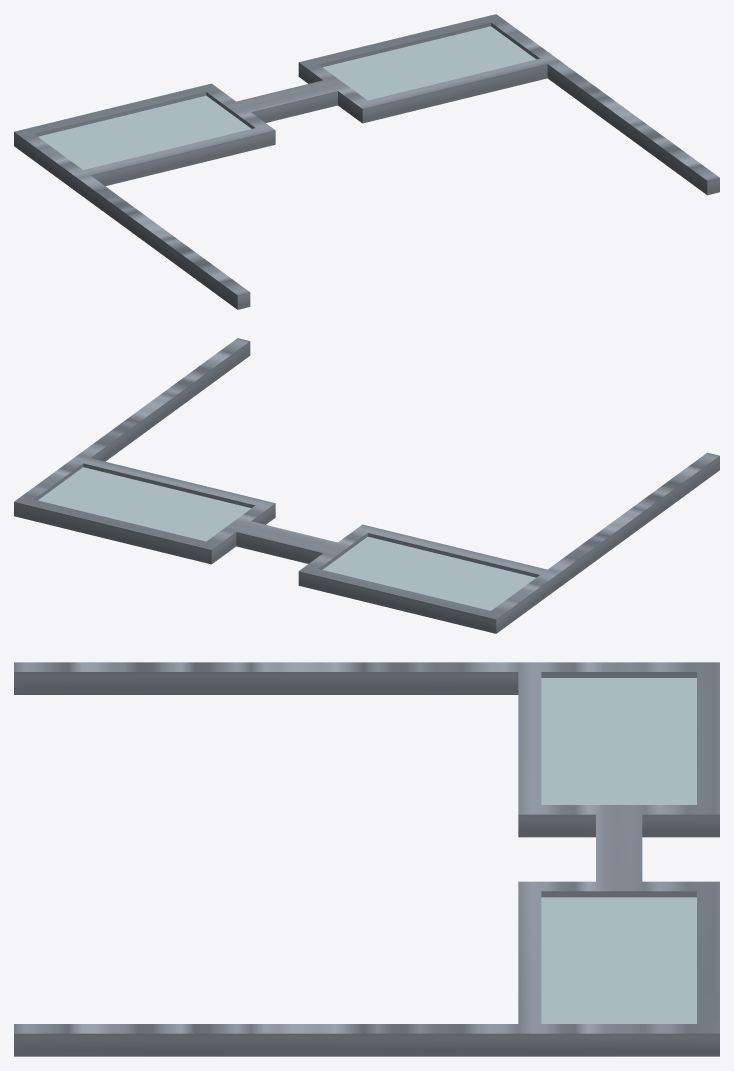
The model's file is spectacles.fbx.
The picture shows the model from 3 angles, top to bottom: view 1: azimuth 30°, elevation 25°; view 2: azimuth 150°, elevation 25°; view 3: azimuth 270°, elevation 25°; orthographic projection. The views are drawn at different scales.
Visible parts, largest first — view 1: spectacles; view 2: spectacles; view 3: spectacles.
Part boxes in pixels (bbox=[...]): spectacles: bbox=[14, 14, 719, 309]; spectacles: bbox=[14, 338, 719, 633]; spectacles: bbox=[14, 662, 719, 1056].
Size of the model in its own units: 12.2 by 0.35 by 9.8.
